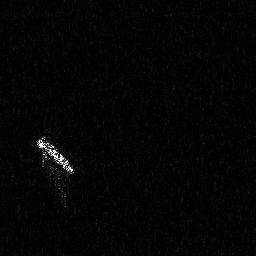ship: (33, 131, 78, 180)
